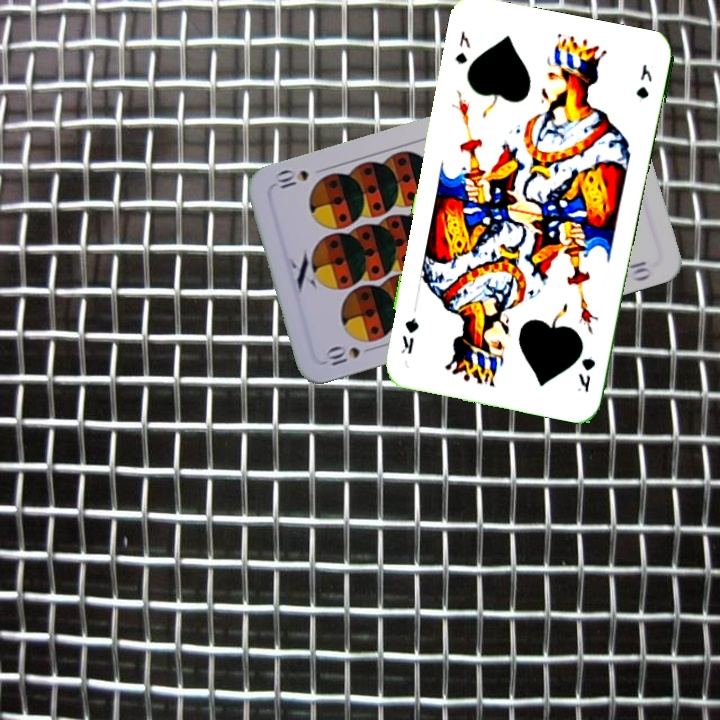GK: (573, 354, 598, 394), (451, 27, 473, 67)
S10: (321, 342, 379, 369)
